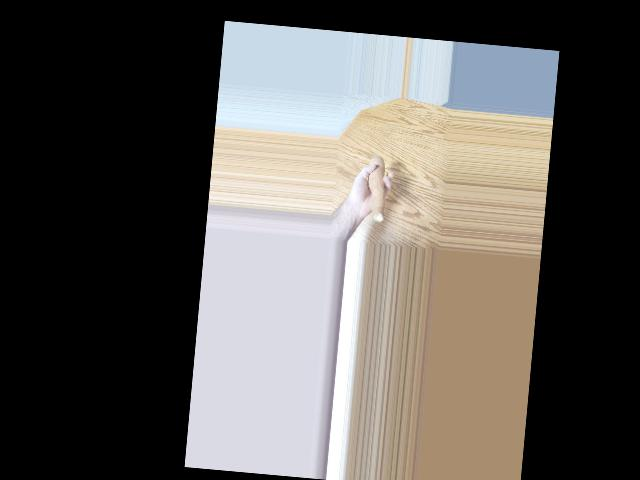sweet_potato: (363, 159, 389, 217)
